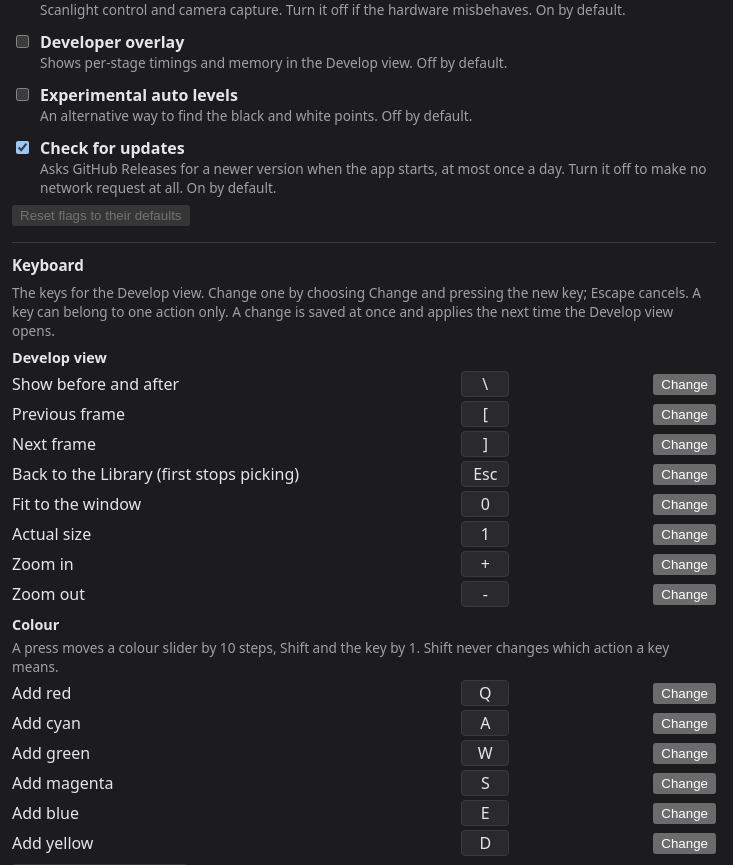
Test: the Keyboard section of Settings › changing a key › refuses the space bar with a reason
(page scrolled)
Click the button "Change" in the row of "Add red". click: point(685, 693)
box: [653,682,716,704]
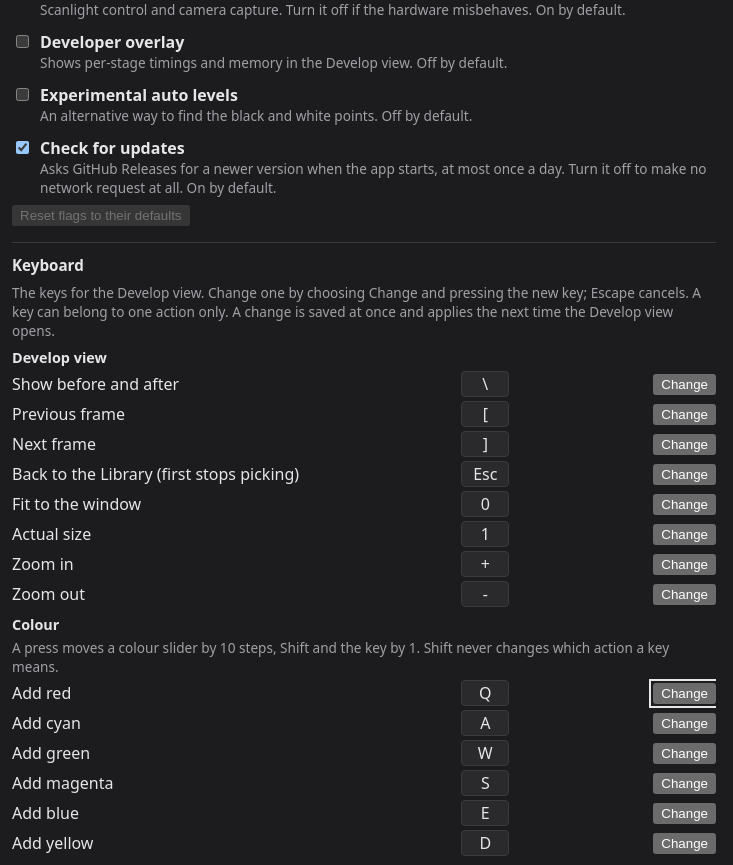
Type keys " "
(page scrolled)
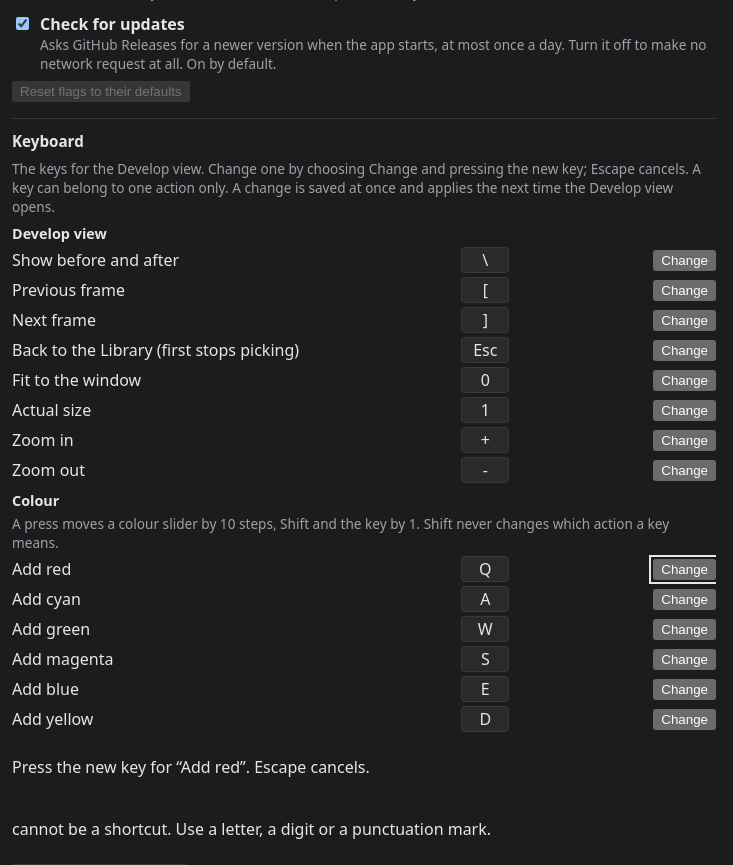
Now the message "cannot be a shortcut. Use a letter, a digit or a punctuation mark." is shown, box [12,818,491,840]
